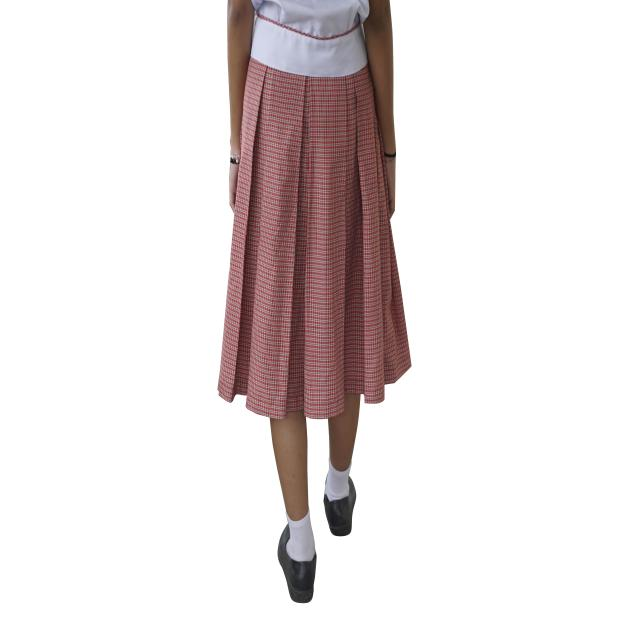shoes: (277, 524, 317, 603), (324, 477, 356, 536)
skirt: (218, 59, 411, 419)
